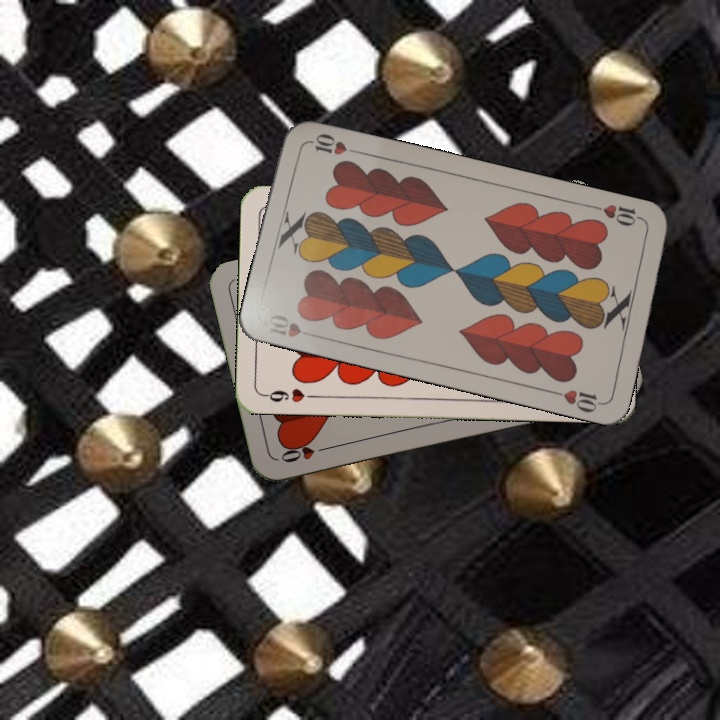H10: (262, 310, 321, 340), (589, 200, 647, 229)
H9: (260, 384, 319, 405)
HO: (276, 441, 334, 465)
